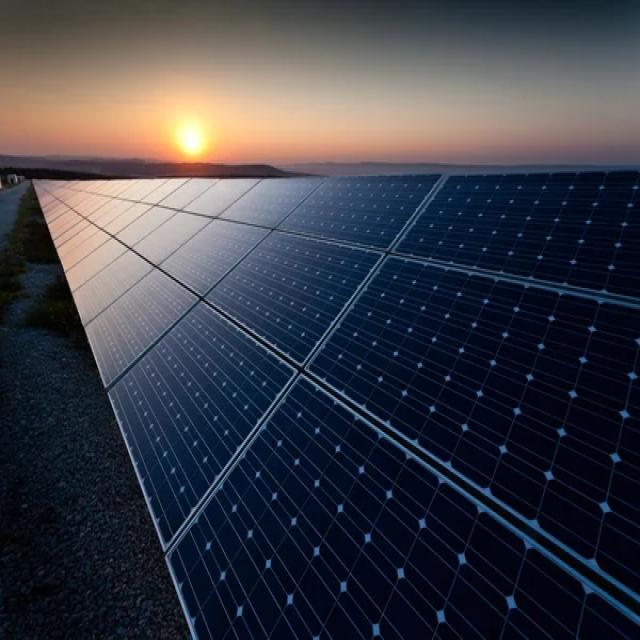clean-solar-panel: (33, 165, 640, 634)
